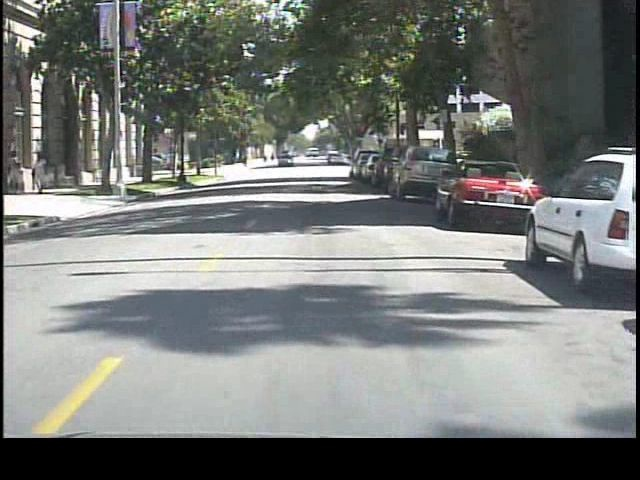person: (28, 152, 54, 196), (7, 147, 27, 194)
